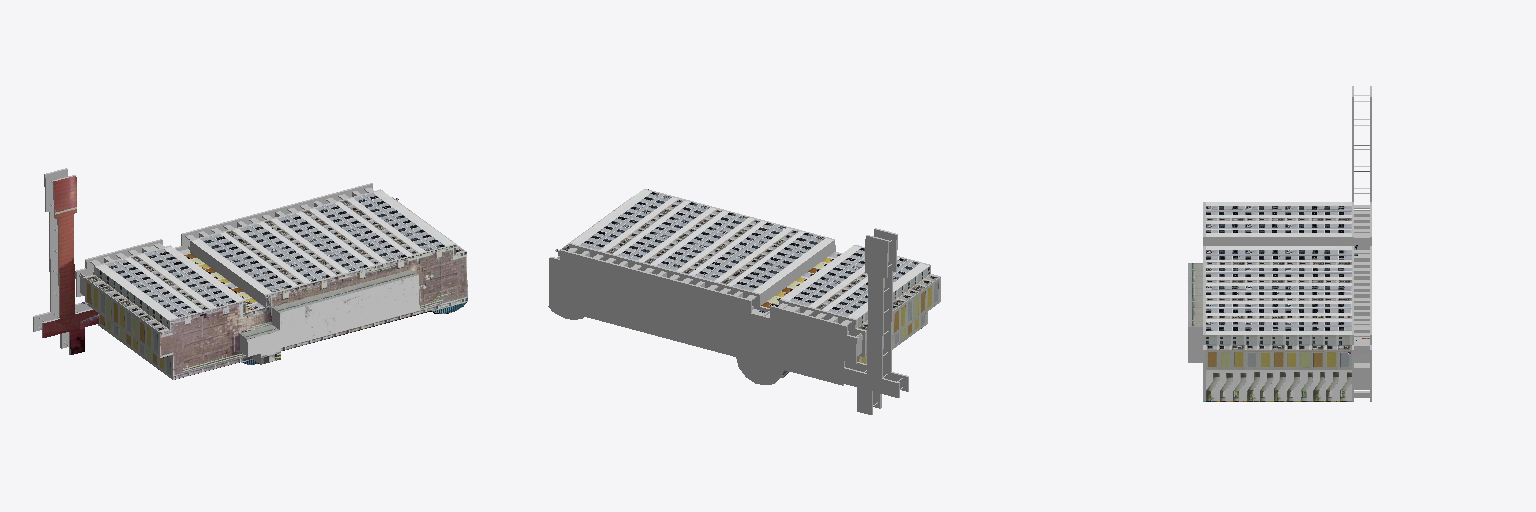
3 views of the same model, side by side, from view 1: azimuth 30°, elevation 25°; view 2: azimuth 150°, elevation 25°; view 3: azimuth 270°, elevation 25° (orthographic).
Parts seen in each view (by area): view 1: polygon.793; view 2: polygon.793; view 3: polygon.793.
Boxes of the visible parts, x1,y1,x2,y2 form: polygon.793: [33, 168, 467, 379]; polygon.793: [548, 189, 940, 414]; polygon.793: [1188, 86, 1371, 401].
Size of the model in its own units: 83.53 by 40.22 by 37.58.
1 materials, 1 textured.